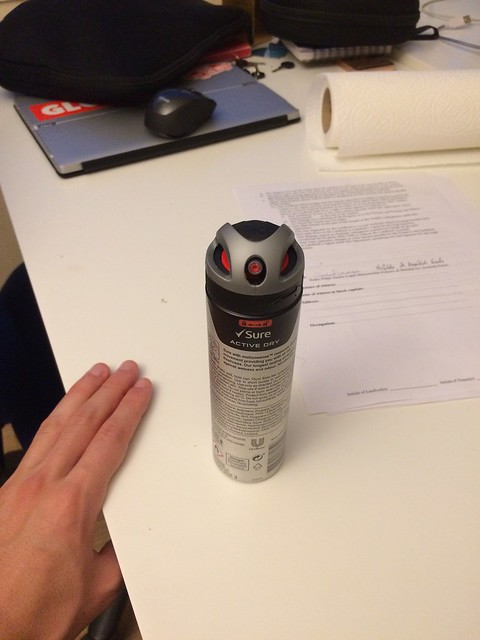can: (198, 217, 310, 495)
